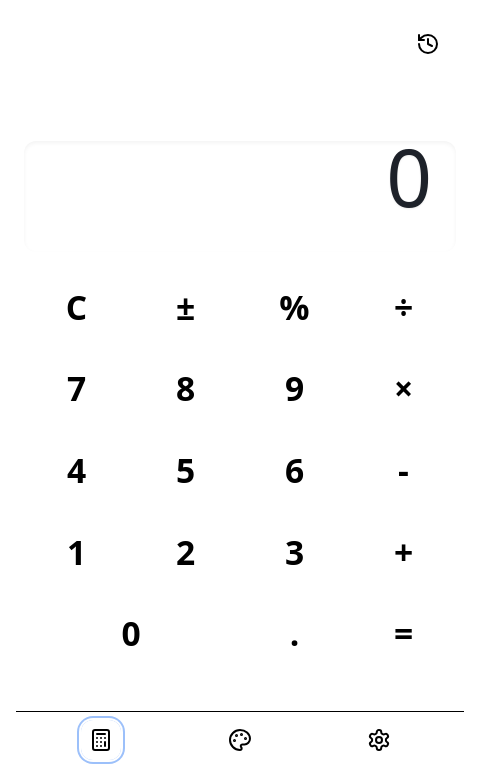
Test: Multi-language UI integration › shows all settings titles and buttons in English
The width and height of the screenshot is (481, 768).
Click the button named "Navigate to Settings".
click(379, 740)  # box [359,720,399,760]
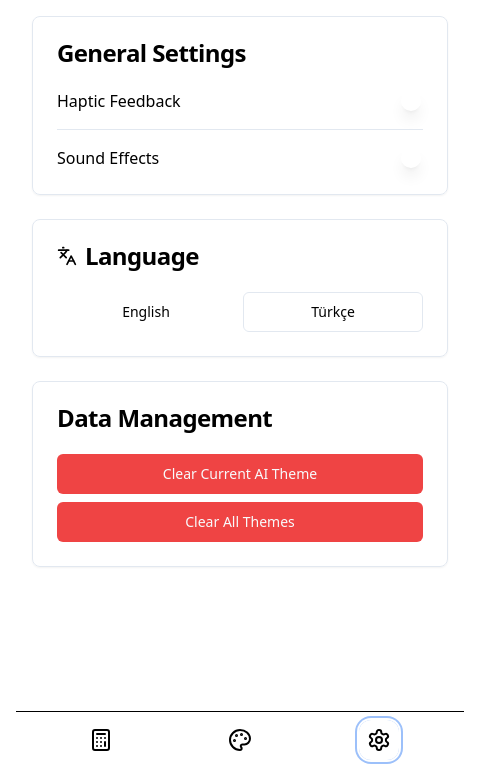
Result: the heading "General Settings" is shown at [57,36,246,69]
Result: the heading "Data Management" is shown at [57,401,272,434]
Result: the heading "Language" is shown at [57,239,199,272]
